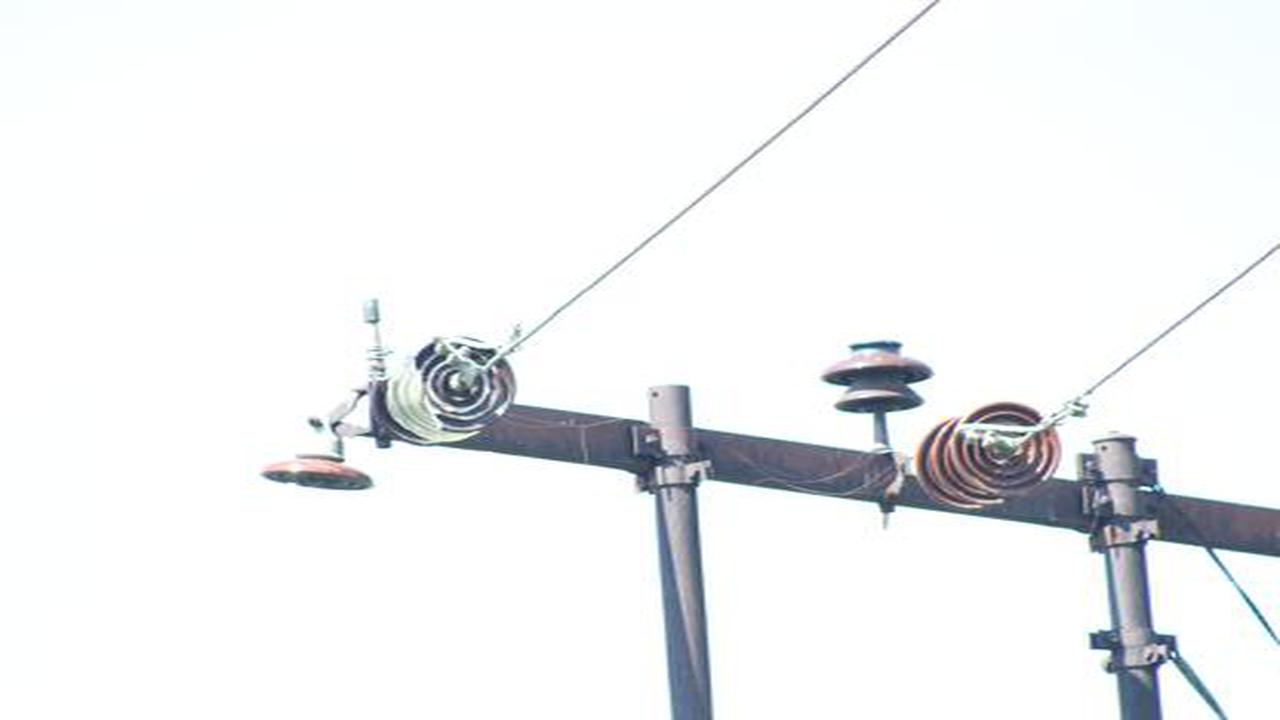defect_disc: (411, 333, 521, 441)
insulator_disc: (949, 395, 1059, 500), (261, 428, 378, 498)
